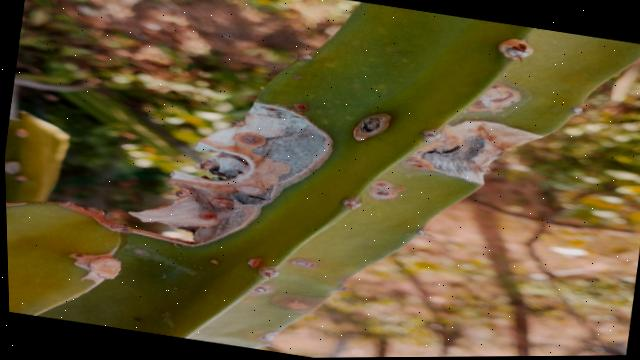stemcanker: (286, 252, 315, 272)
